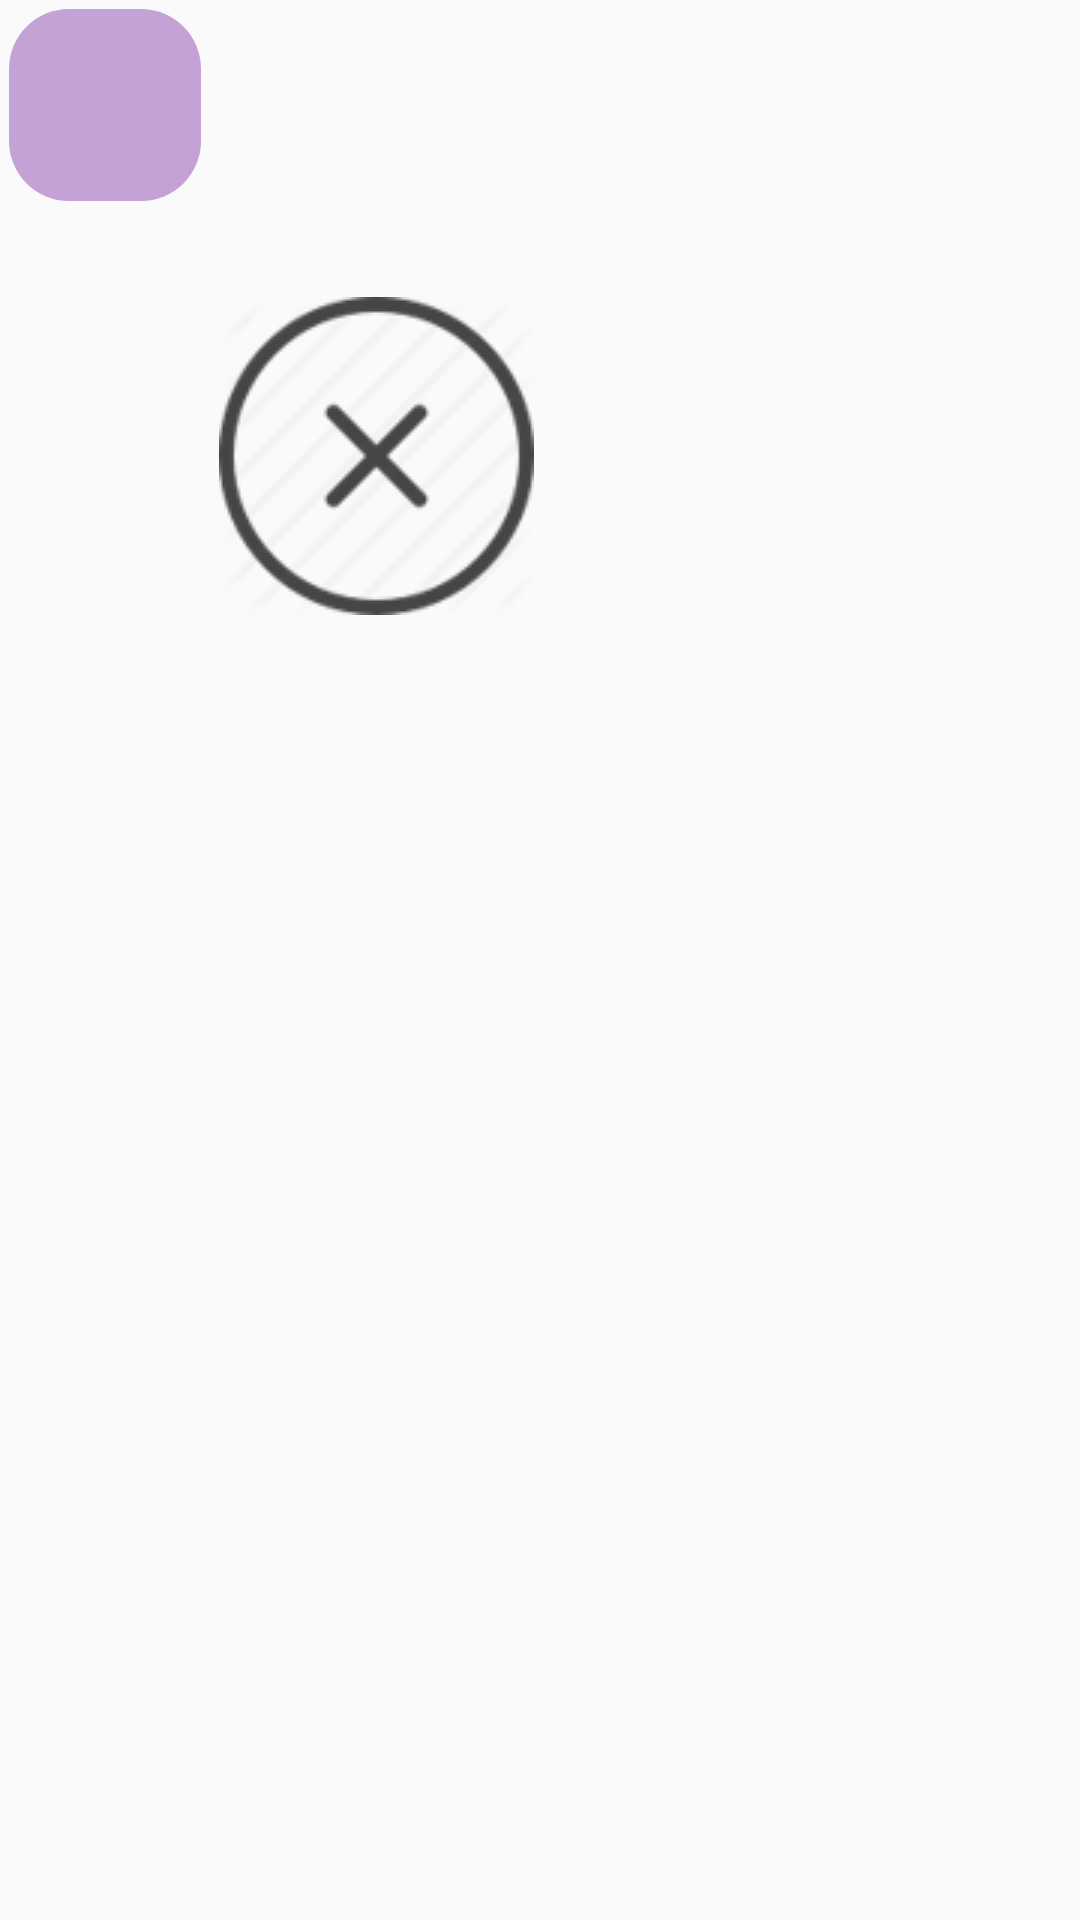

Icons on this 1080×1920 Android screen, each with the point to tap as point (x, y):
cancle: point (376, 456)
